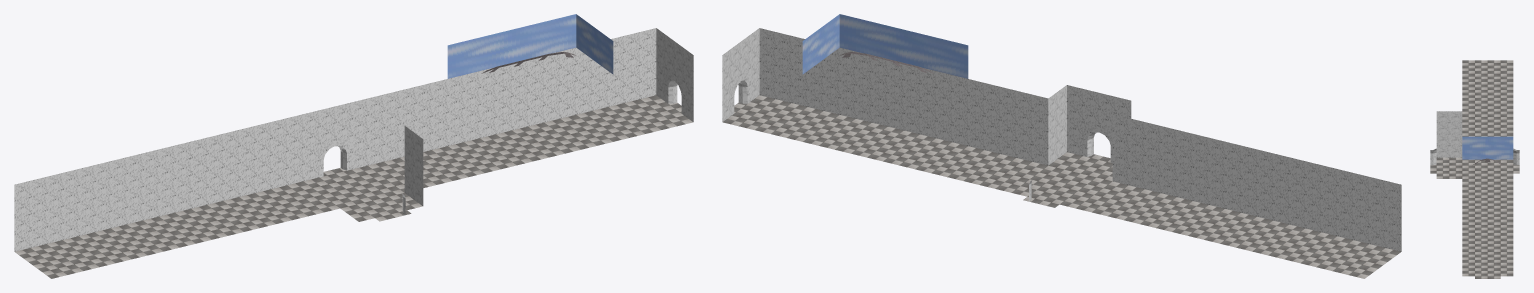
Rendered from Hallway11.glb.
The picture shows the model from 3 angles, left to right: view 1: azimuth 30°, elevation 25°; view 2: azimuth 150°, elevation 25°; view 3: azimuth 270°, elevation 25°; orthographic projection. The views are drawn at different scales.
Parts seen in each view (by area): view 1: Walls.010, Floor.009, Sky.009; view 2: Walls.010, Floor.009, Sky.009; view 3: Floor.009, Walls.010, Sky.009.
Part boxes in pixels (box(x1,y1,x2,y2)): Walls.010: box(14, 28, 693, 251); Floor.009: box(15, 95, 692, 278); Sky.009: box(447, 14, 613, 78); Walls.010: box(722, 28, 1401, 251); Floor.009: box(723, 95, 1400, 278); Sky.009: box(802, 14, 968, 78); Floor.009: box(1430, 60, 1519, 278); Walls.010: box(1430, 111, 1519, 164); Sky.009: box(1462, 136, 1513, 159).
Size of the model in its own units: 40.5 by 6 by 7.
Materials: 4 (4 with a texture image).
